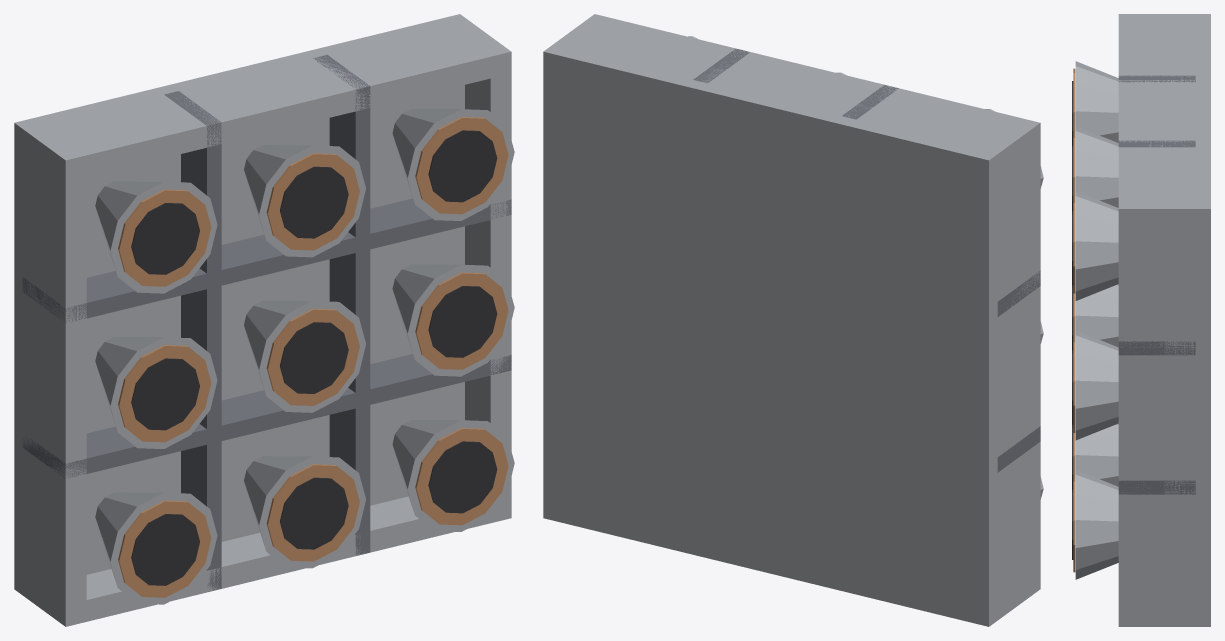
Rendered from shell_bank.glb.
3 renders of one model, left to right at view 1: azimuth 30°, elevation 25°; view 2: azimuth 150°, elevation 25°; view 3: azimuth 270°, elevation 25°, orthographic. The views are drawn at different scales.
Size of the model in its own units: 3 by 3 by 0.9025.
